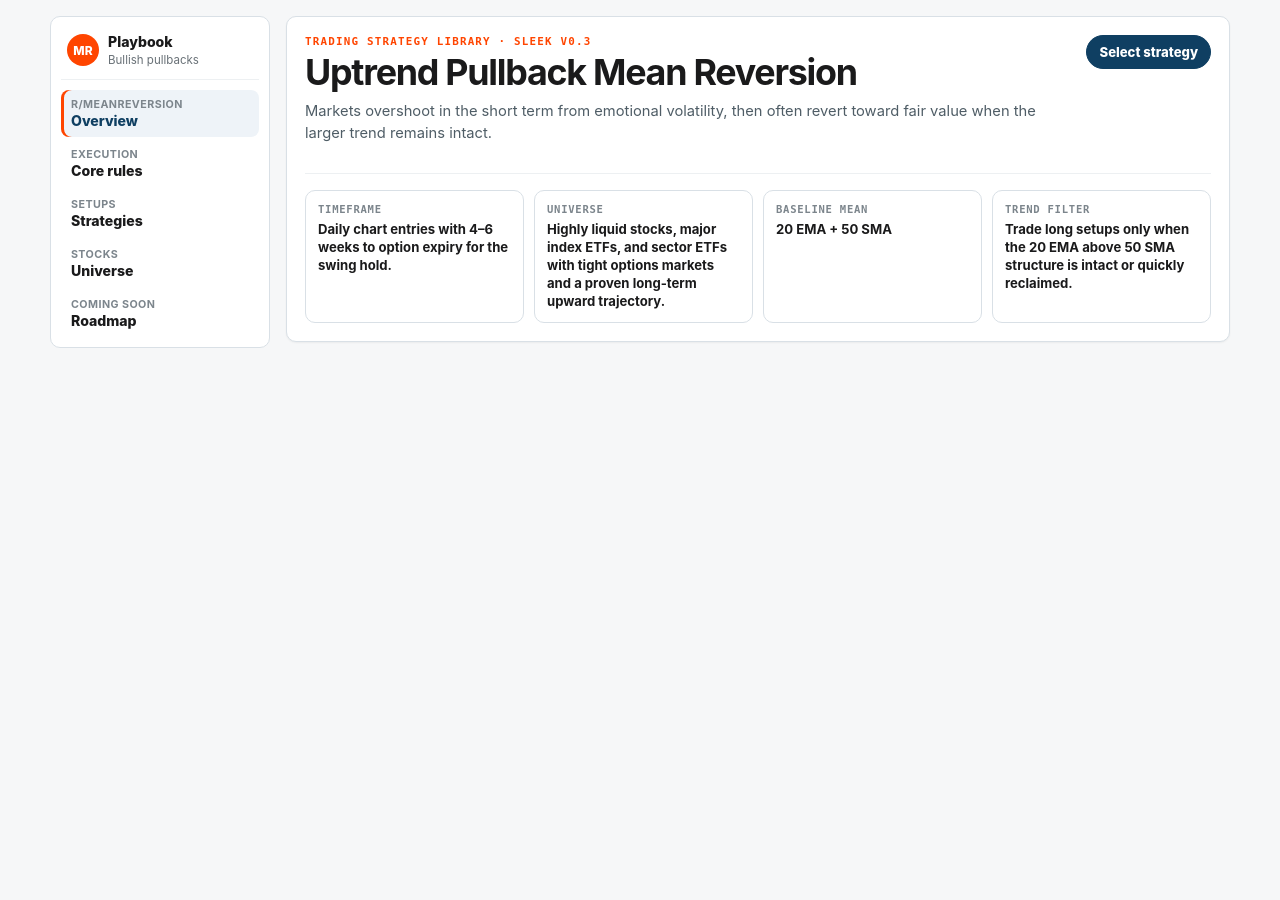
Test: App strategy navigation › renders a compact strategy page with strategy selection and opens selected details
Click the button "Setups Strategies".
click(160, 214)  # box left=61, top=190, right=259, bottom=237
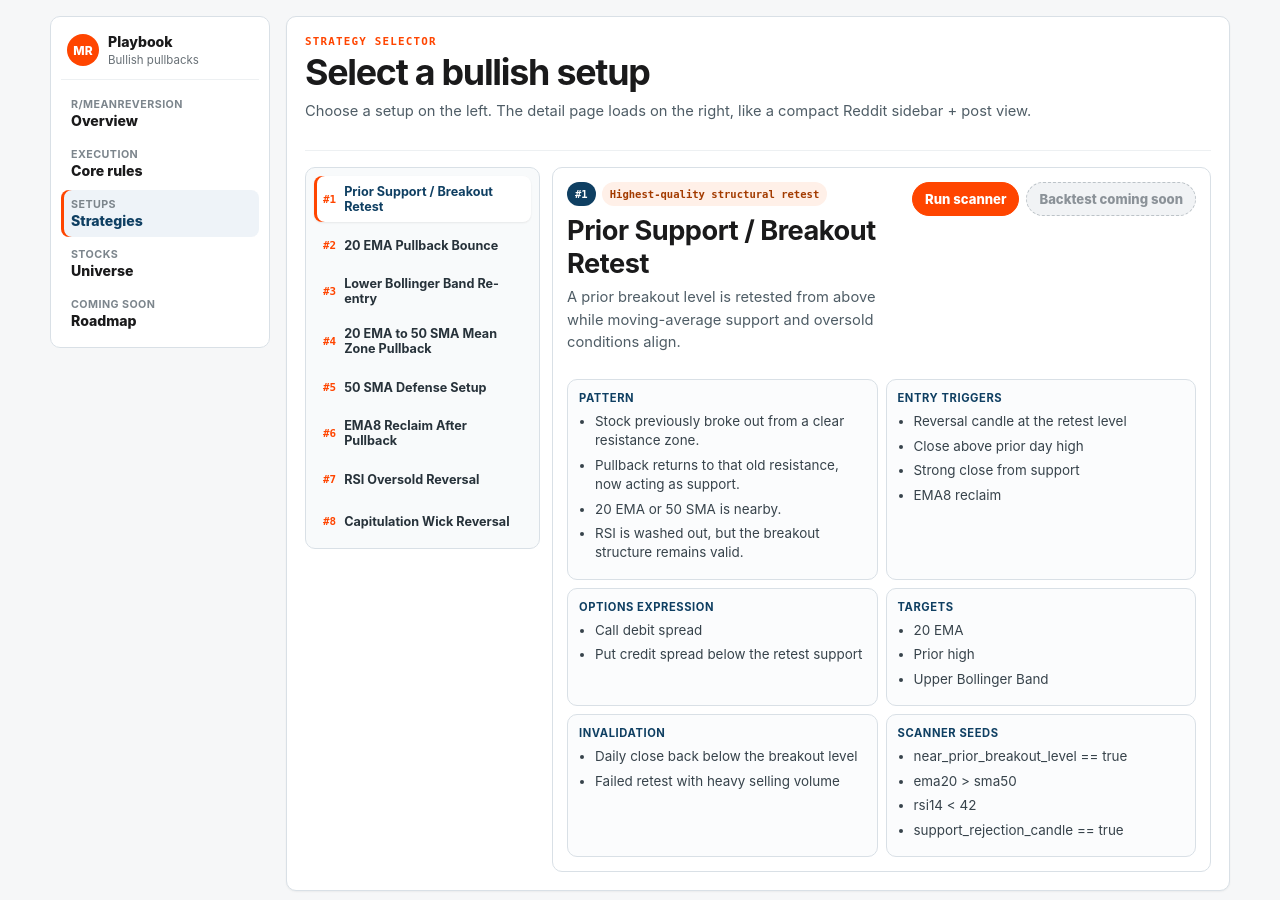
Expected: the heading "Select a bullish setup" is shown, left=305, top=50, right=650, bottom=94
Expected: the number of tabs is 8
Click the tab "#5 50 SMA Defense Setup".
click(422, 387)  # box left=314, top=368, right=531, bottom=406
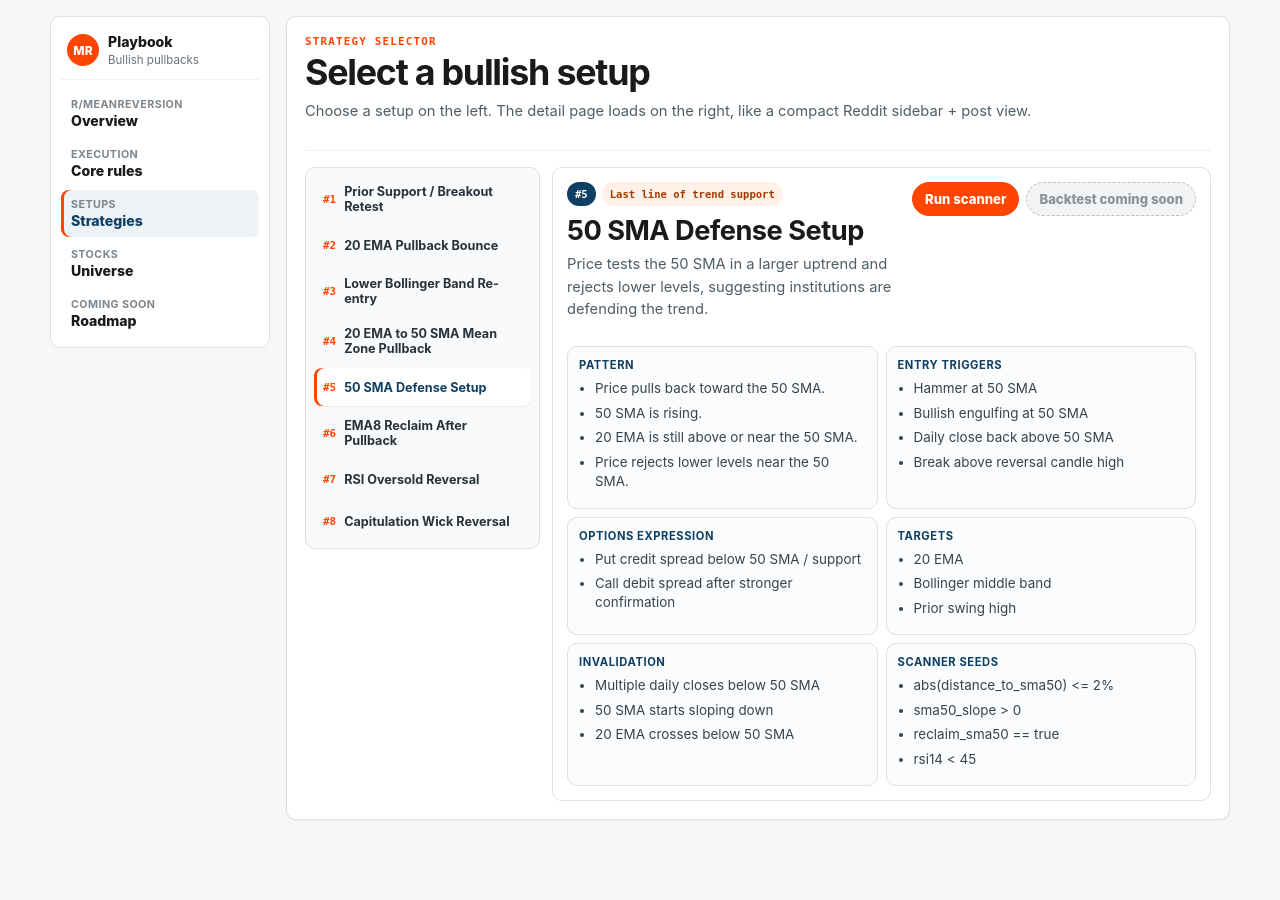
Expected: the heading "50 SMA Defense Setup" is shown, left=567, top=214, right=900, bottom=247
Expected: the text "Last line of trend support" is shown, left=602, top=182, right=783, bottom=206
